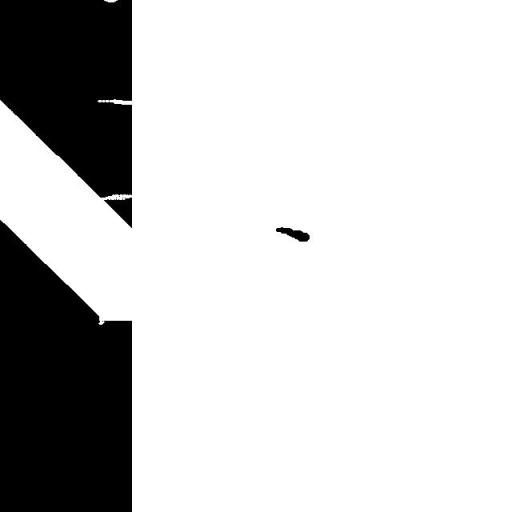copper: (268, 219, 317, 249)
mousebite: (90, 91, 140, 112), (90, 307, 112, 332)
open: (92, 186, 142, 208)
